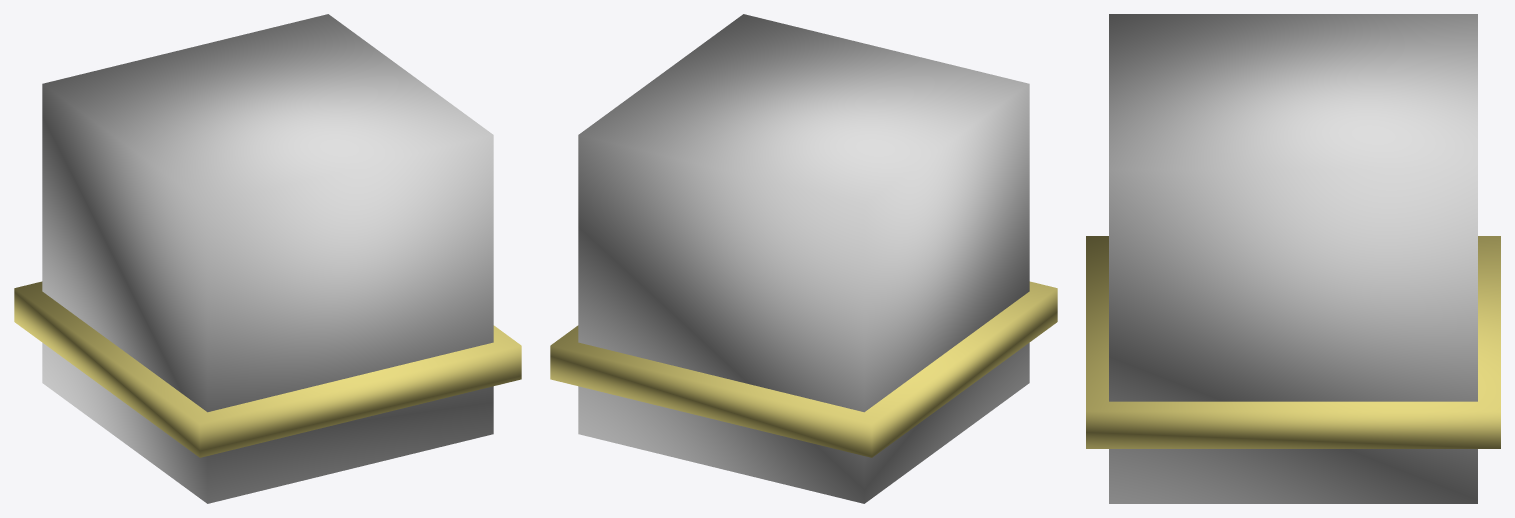
The model's file is cpu.glb.
The picture shows the model from 3 angles, left to right: view 1: azimuth 30°, elevation 25°; view 2: azimuth 150°, elevation 25°; view 3: azimuth 270°, elevation 25°; orthographic projection. The views are drawn at different scales.
Parts seen in each view (by area): view 1: Cube; view 2: Cube; view 3: Cube.
Part boxes in pixels (left/top/right/bottom): Cube: left=14, top=14, right=521, bottom=503; Cube: left=550, top=14, right=1057, bottom=503; Cube: left=1086, top=14, right=1500, bottom=503.
Size of the model in its own units: 0.045 by 0.04 by 0.045.
